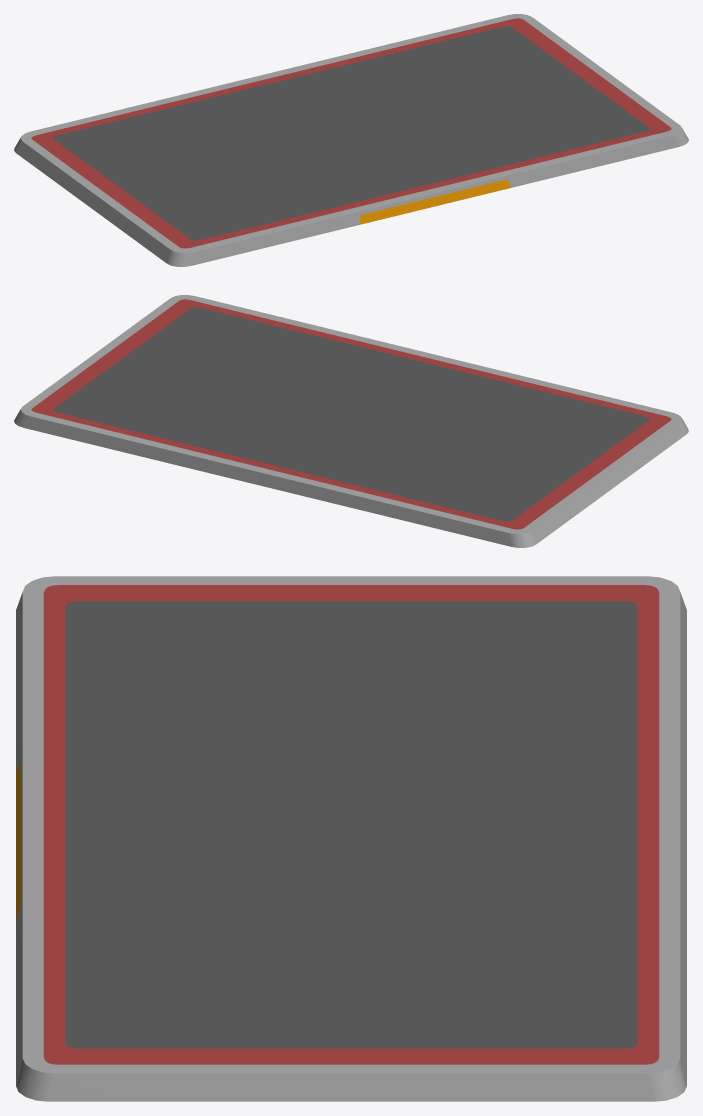
Rendered from Chessbase.fbx.
3 views of the same model, one above another, from view 1: azimuth 30°, elevation 25°; view 2: azimuth 150°, elevation 25°; view 3: azimuth 270°, elevation 25° (orthographic). The views are drawn at different scales.
Visible parts, largest first — view 1: Color2_1, Color2_2, ActionColor2, QualityColor2; view 2: Color2_1, Color2_2, ActionColor2; view 3: Color2_1, Color2_2, ActionColor2.
Boxes of the visible parts, <box> form: Color2_1: <box>53,26,649,240</box>; Color2_2: <box>14,14,688,266</box>; ActionColor2: <box>31,18,671,248</box>; QualityColor2: <box>359,179,510,224</box>; Color2_1: <box>53,307,649,521</box>; Color2_2: <box>14,295,688,547</box>; ActionColor2: <box>31,299,671,529</box>; Color2_1: <box>65,601,637,1048</box>; Color2_2: <box>16,576,686,1101</box>; ActionColor2: <box>43,585,659,1064</box>.
Size of the model in its own units: 5.7 by 0.1213 by 3.18.
